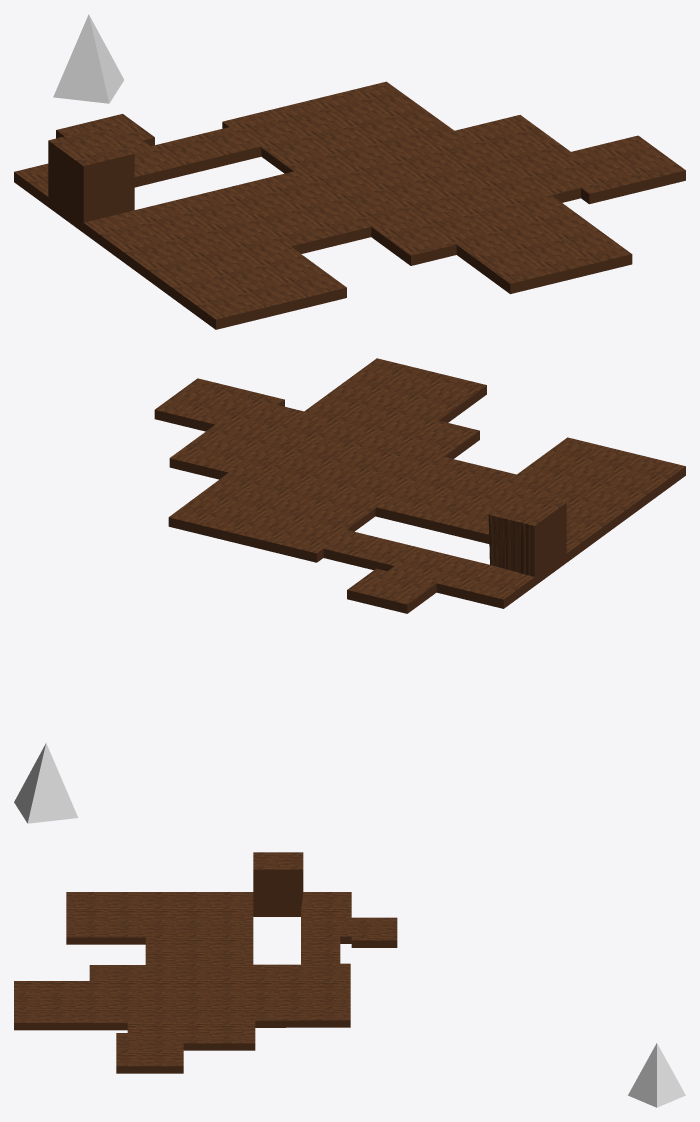
The model's file is SM_leaklighttest_DELETEtopo_II.fbx.
3 views of the same model, one above another, from view 1: azimuth 30°, elevation 25°; view 2: azimuth 150°, elevation 25°; view 3: azimuth 270°, elevation 25° (orthographic). The views are drawn at different scales.
Visible parts, largest first — view 1: Middle_floorandroof.002, SM_referemcepoint; view 2: Middle_floorandroof.002, SM_referemcepoint; view 3: Middle_floorandroof.002, SM_referemcepoint.
Part boxes in pixels (<box>): Middle_floorandroof.002: <box>14,81,685,329</box>; SM_referemcepoint: <box>53,14,123,103</box>; Middle_floorandroof.002: <box>154,358,685,613</box>; SM_referemcepoint: <box>14,743,78,823</box>; Middle_floorandroof.002: <box>14,852,397,1073</box>; SM_referemcepoint: <box>628,1043,685,1107</box>.
Bounding box in the file's own units: 2432 × 3962 × 931.
